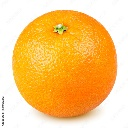orange: (11, 9, 117, 119)
